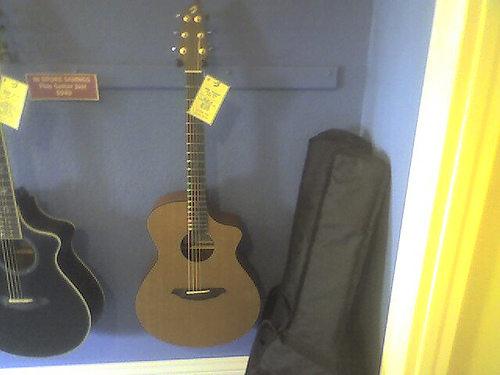guitar: (130, 1, 265, 347), (1, 130, 107, 359)
